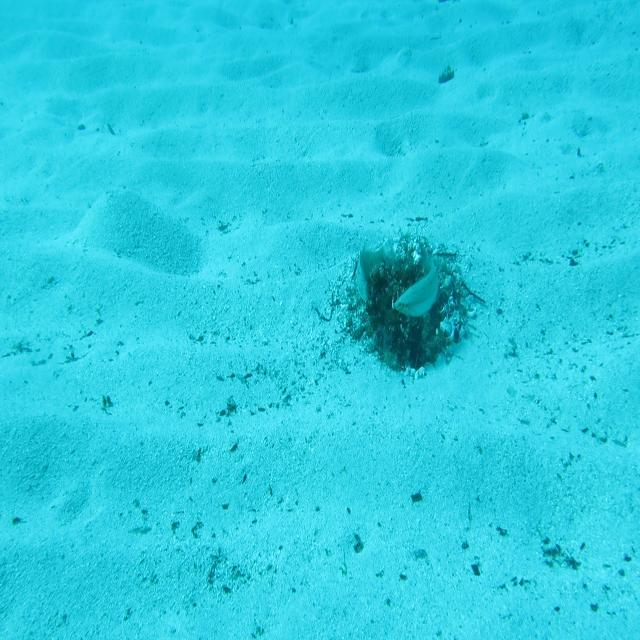SPA: (354, 231, 396, 304)
female: (394, 247, 440, 321)
nest: (354, 230, 469, 370)
